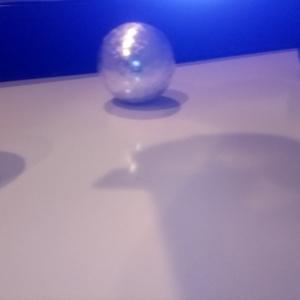alive_ball: (99, 21, 176, 104)
